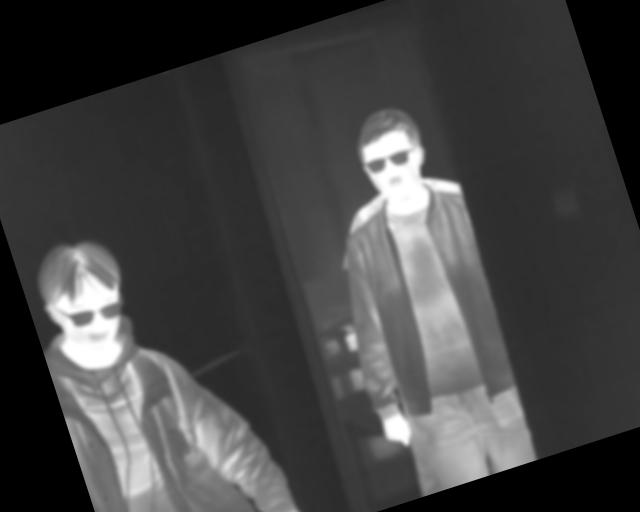face: (25, 228, 141, 364), (348, 103, 438, 211)
